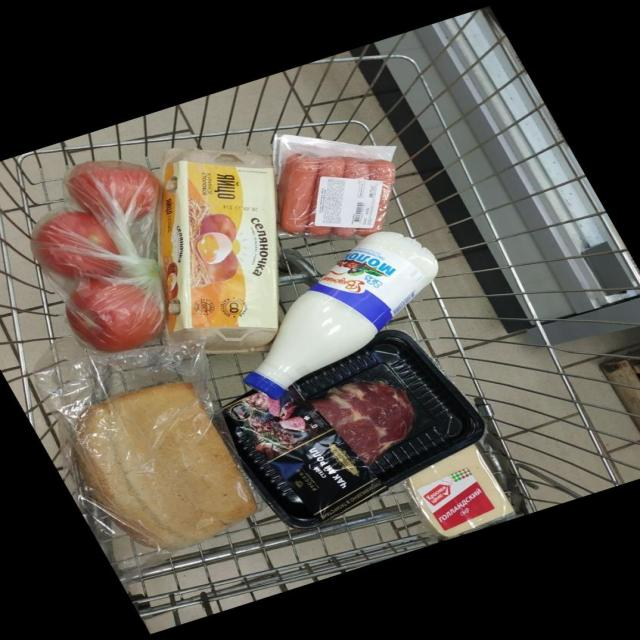cheese: (204, 252, 640, 640)
egg: (137, 175, 415, 489)
milk: (221, 135, 640, 389)
tomato: (73, 144, 200, 427), (30, 116, 140, 368), (86, 96, 232, 264)
